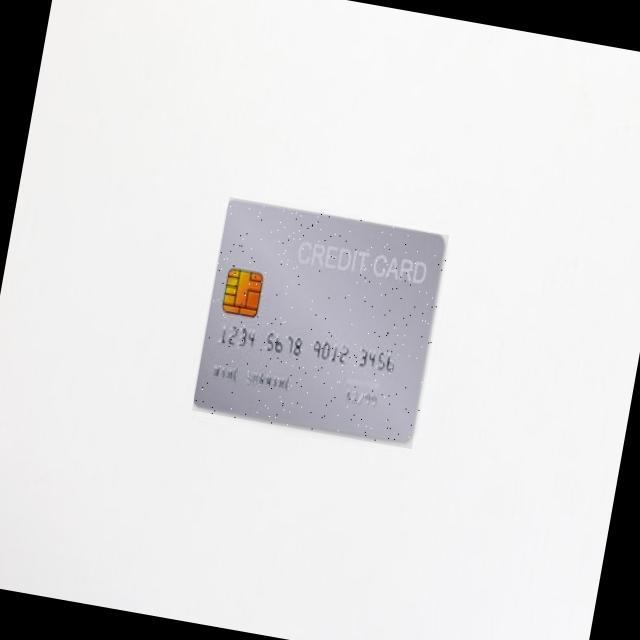payment_card: (191, 195, 448, 446)
